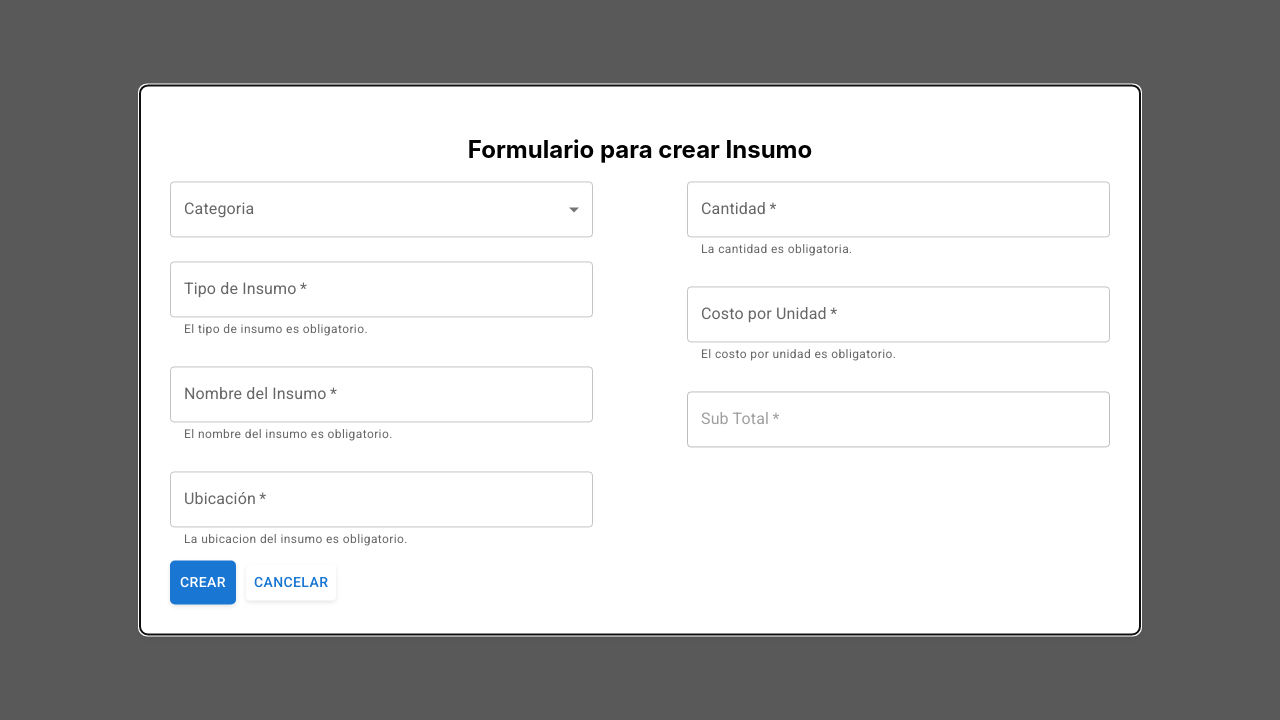
Test: InsumoFormModal › muestra error si nombre inválido
This screenshot has width=1280, height=720.
Type "123" into the field labelled "Nombre del Insumo *" at (382, 394), box [170,366,593,422]
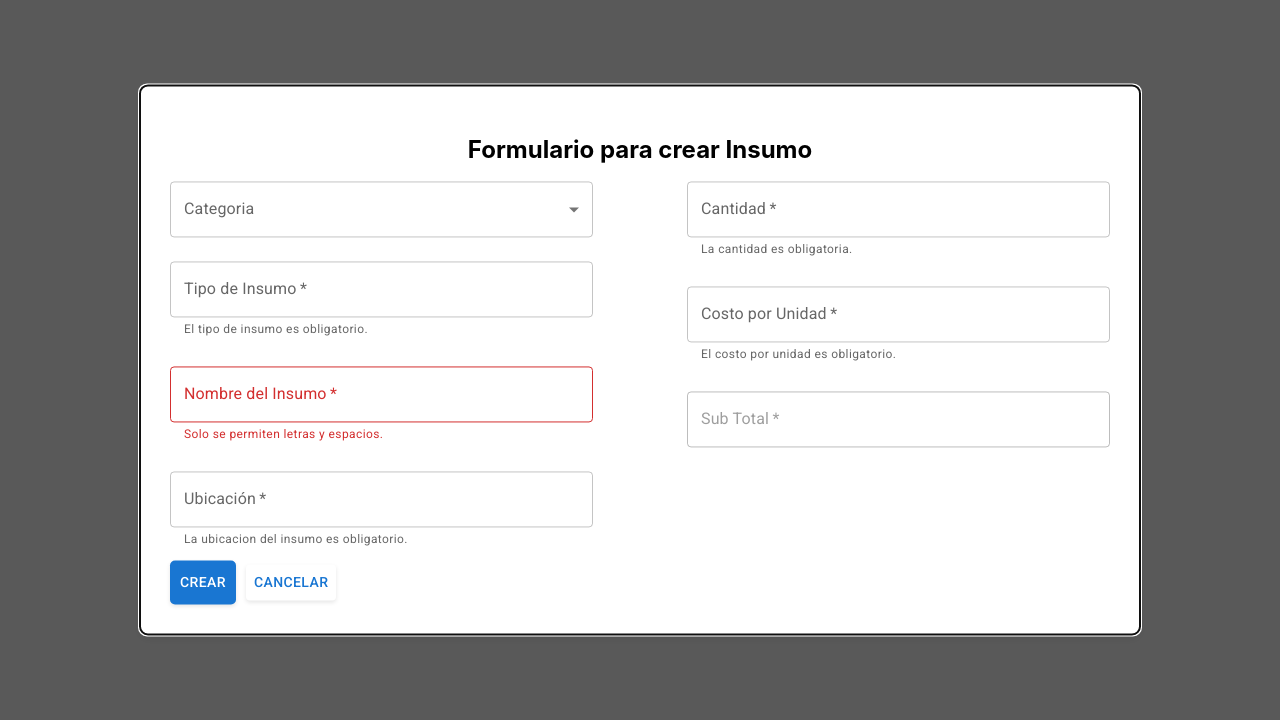
Expected: the text "Solo se permiten letras y espacios." is shown, [184,427,383,441]
